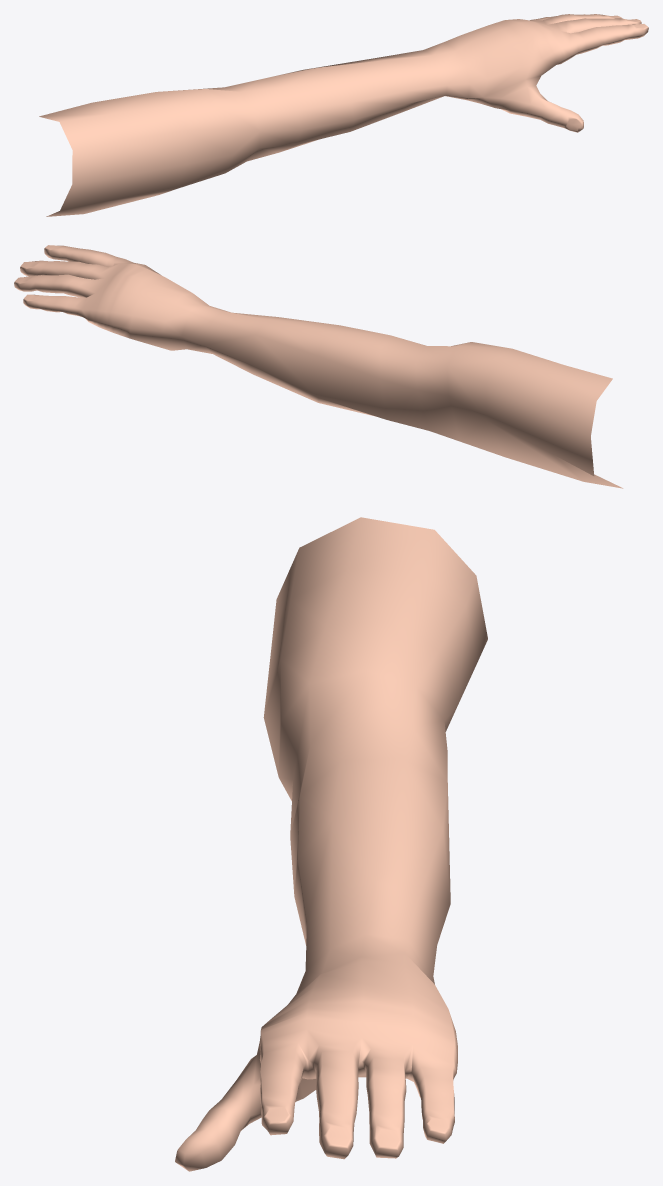
The model's file is Human hand.glb.
The picture shows the model from 3 angles, top to bottom: view 1: azimuth 30°, elevation 25°; view 2: azimuth 150°, elevation 25°; view 3: azimuth 270°, elevation 25°; orthographic projection. The views are drawn at different scales.
Visible parts, largest first — view 1: pasted__Arm pasted__Body_LowRes group; view 2: pasted__Arm pasted__Body_LowRes group; view 3: pasted__Arm pasted__Body_LowRes group.
Part boxes in pixels (<box>): pasted__Arm pasted__Body_LowRes group: <box>39,14,648,216</box>; pasted__Arm pasted__Body_LowRes group: <box>14,245,623,488</box>; pasted__Arm pasted__Body_LowRes group: <box>175,517,487,1171</box>.
Size of the model in its own units: 19.41 by 3.01 by 4.43.
